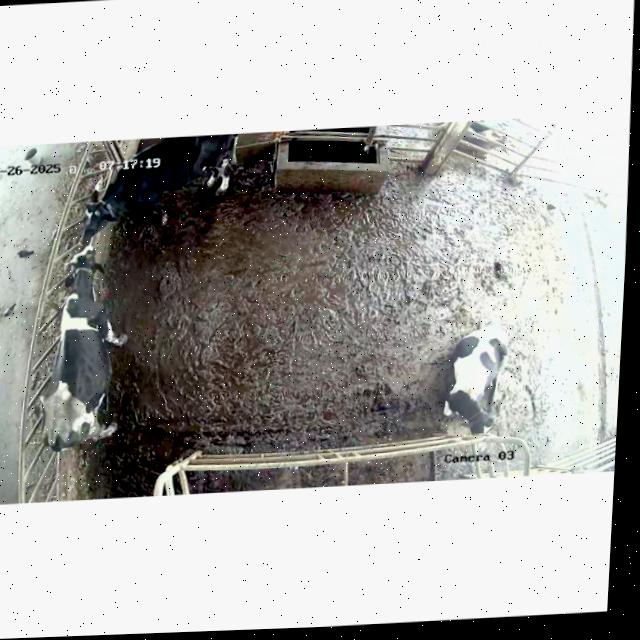stand: (35, 242, 136, 453), (73, 132, 249, 244)
